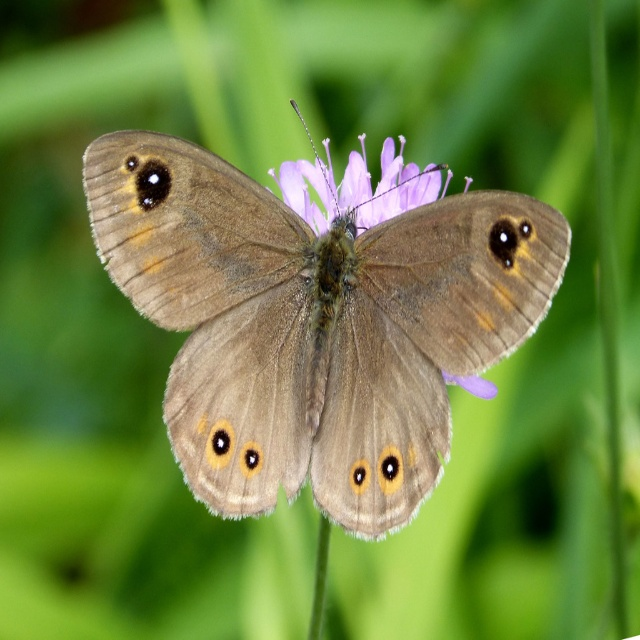Butterfly: (67, 108, 610, 542)
